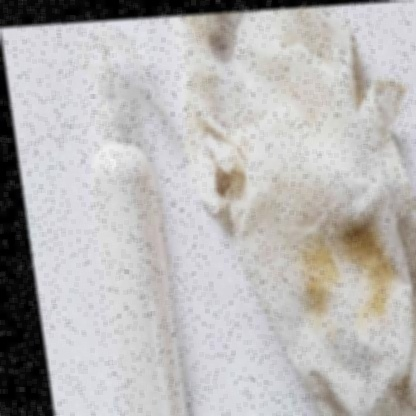coffee: (363, 270, 391, 315), (304, 255, 330, 302), (348, 227, 376, 263)
